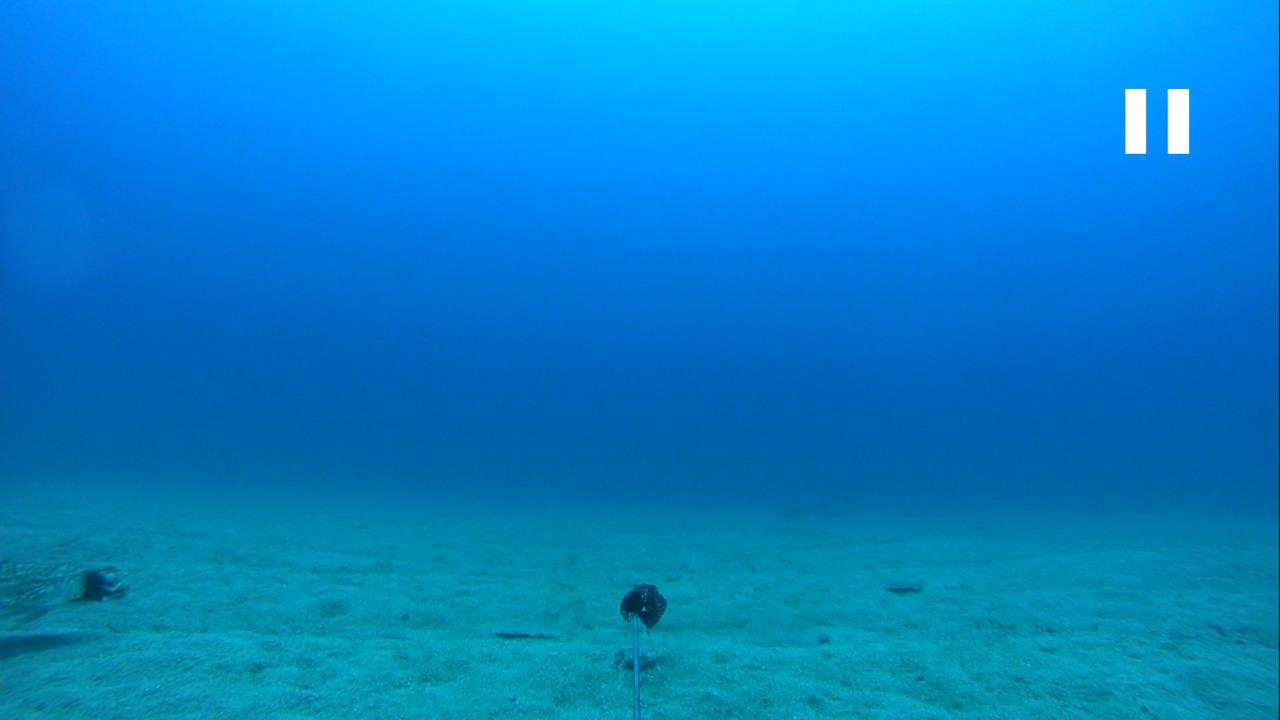bothus: (494, 619, 566, 639), (883, 576, 930, 594)
dactylopterus: (3, 555, 126, 638)
